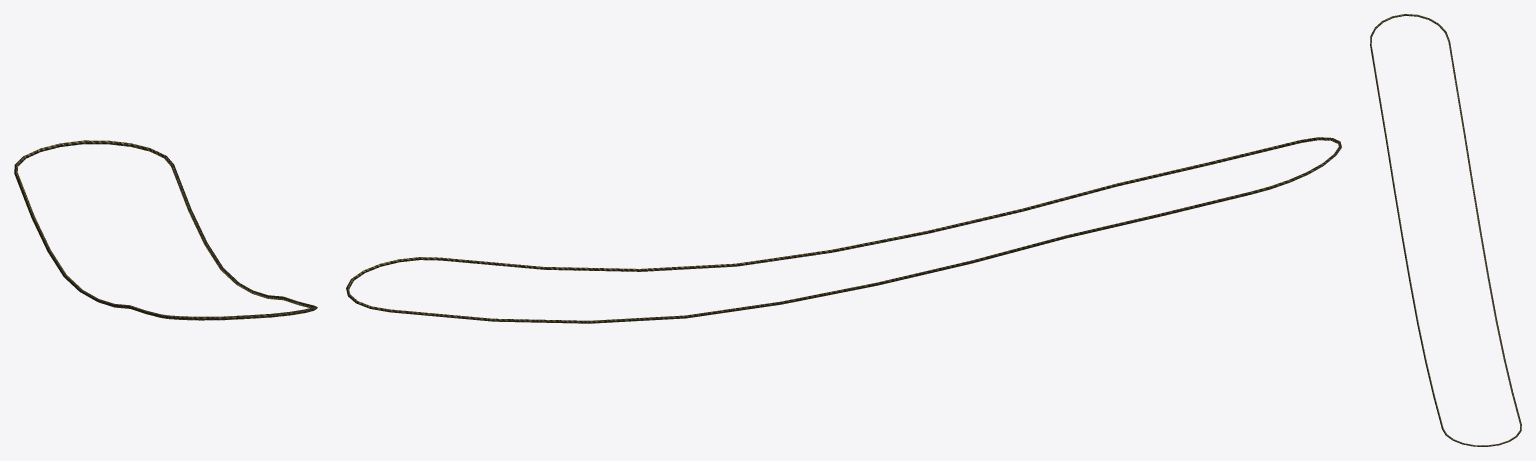
File: SWORDLIGHT20_MAINCAVROPE02CONV01.fbx
The picture shows the model from 3 angles, left to right: view 1: azimuth 90°, elevation 25°; view 2: azimuth 150°, elevation 25°; view 3: azimuth 270°, elevation 25°; orthographic projection. The views are drawn at different scales.
Visible parts, largest first — view 1: SWORDLIGHT20_MAINCAVROPE02CONV01; view 2: SWORDLIGHT20_MAINCAVROPE02CONV01; view 3: SWORDLIGHT20_MAINCAVROPE02CONV01.
Boxes of the visible parts, bbox=[...] form: SWORDLIGHT20_MAINCAVROPE02CONV01: bbox=[14, 140, 317, 320]; SWORDLIGHT20_MAINCAVROPE02CONV01: bbox=[346, 137, 1341, 323]; SWORDLIGHT20_MAINCAVROPE02CONV01: bbox=[1370, 14, 1521, 446].
Size of the model in its own units: 205103 by 63672 by 50502.
Materials: 1 (1 with a texture image).
